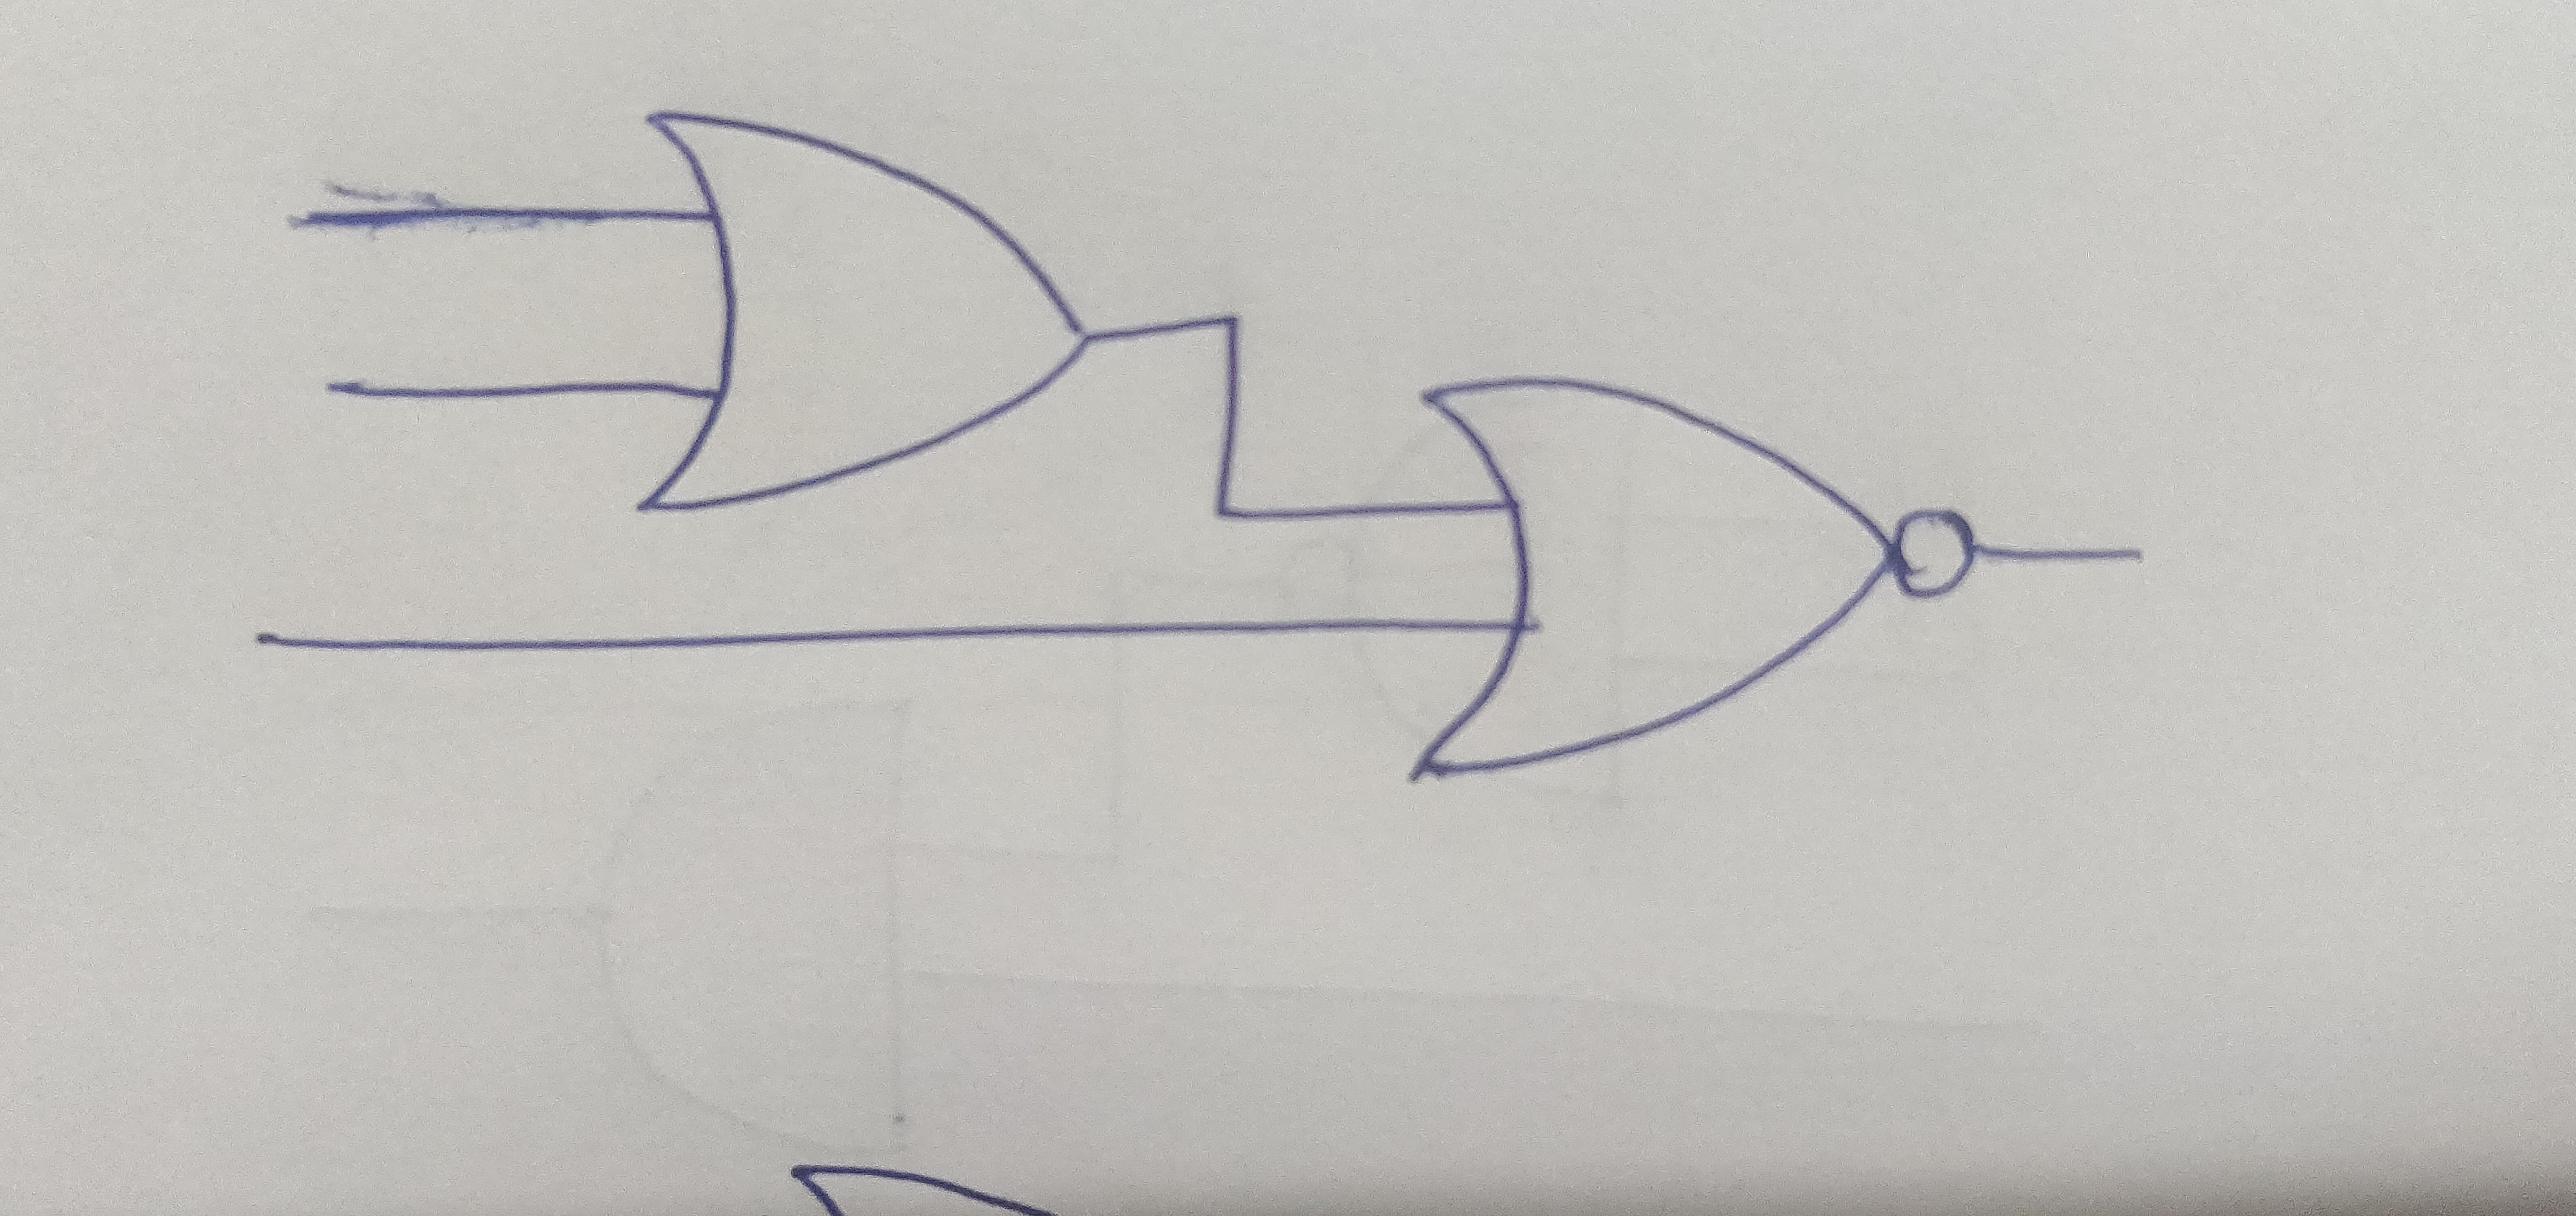not: (1889, 503, 1978, 605)
or: (1403, 368, 1902, 782), (642, 105, 1088, 523)
